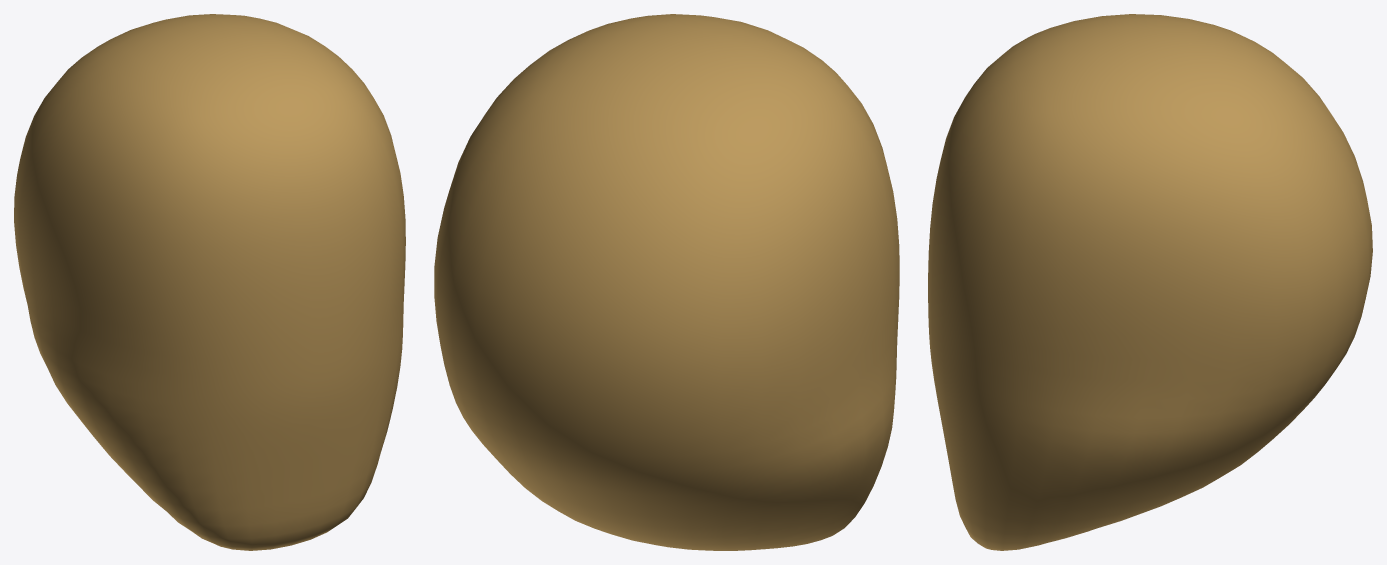
File: head_head_010.gltf
3 renders of one model, left to right at view 1: azimuth 30°, elevation 25°; view 2: azimuth 150°, elevation 25°; view 3: azimuth 270°, elevation 25°, orthographic. The views are drawn at different scales.
Visible parts, largest first — view 1: head.010; view 2: head.010; view 3: head.010.
Boxes of the visible parts, x1,y1,x2,y2 form: head.010: (14, 14, 405, 550); head.010: (434, 14, 899, 550); head.010: (928, 14, 1372, 550).
Bounding box in the file's own units: 0.619 × 0.8415 × 0.6903.
